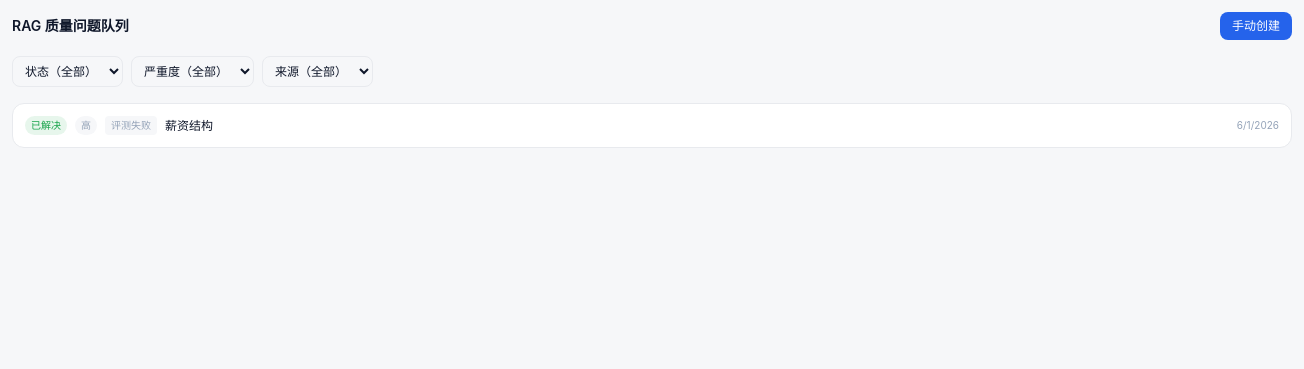
RAGQualityPanel › 无 citations 不崩溃
Click the text "薪资结构".
click(189, 126)  # box [165, 118, 213, 134]
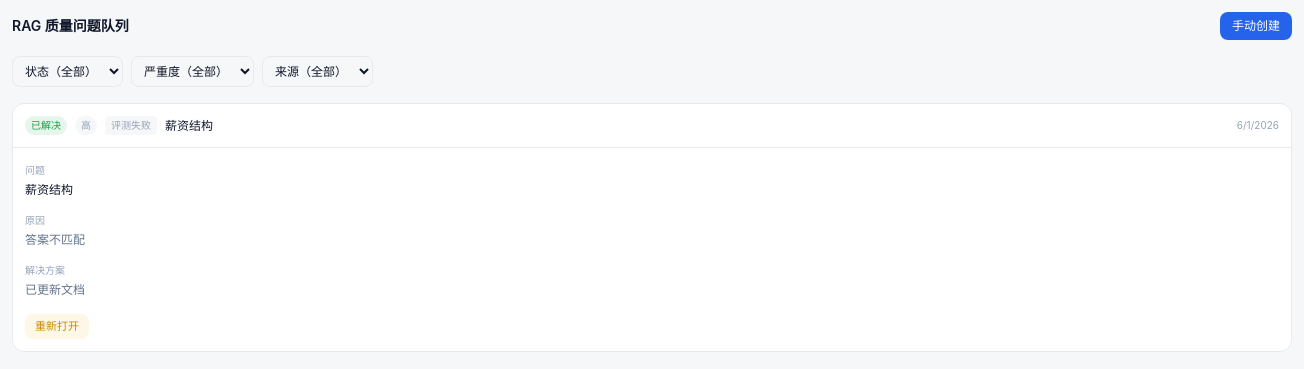
Expected: the text "答案不匹配" is shown, [25, 232, 85, 247]
